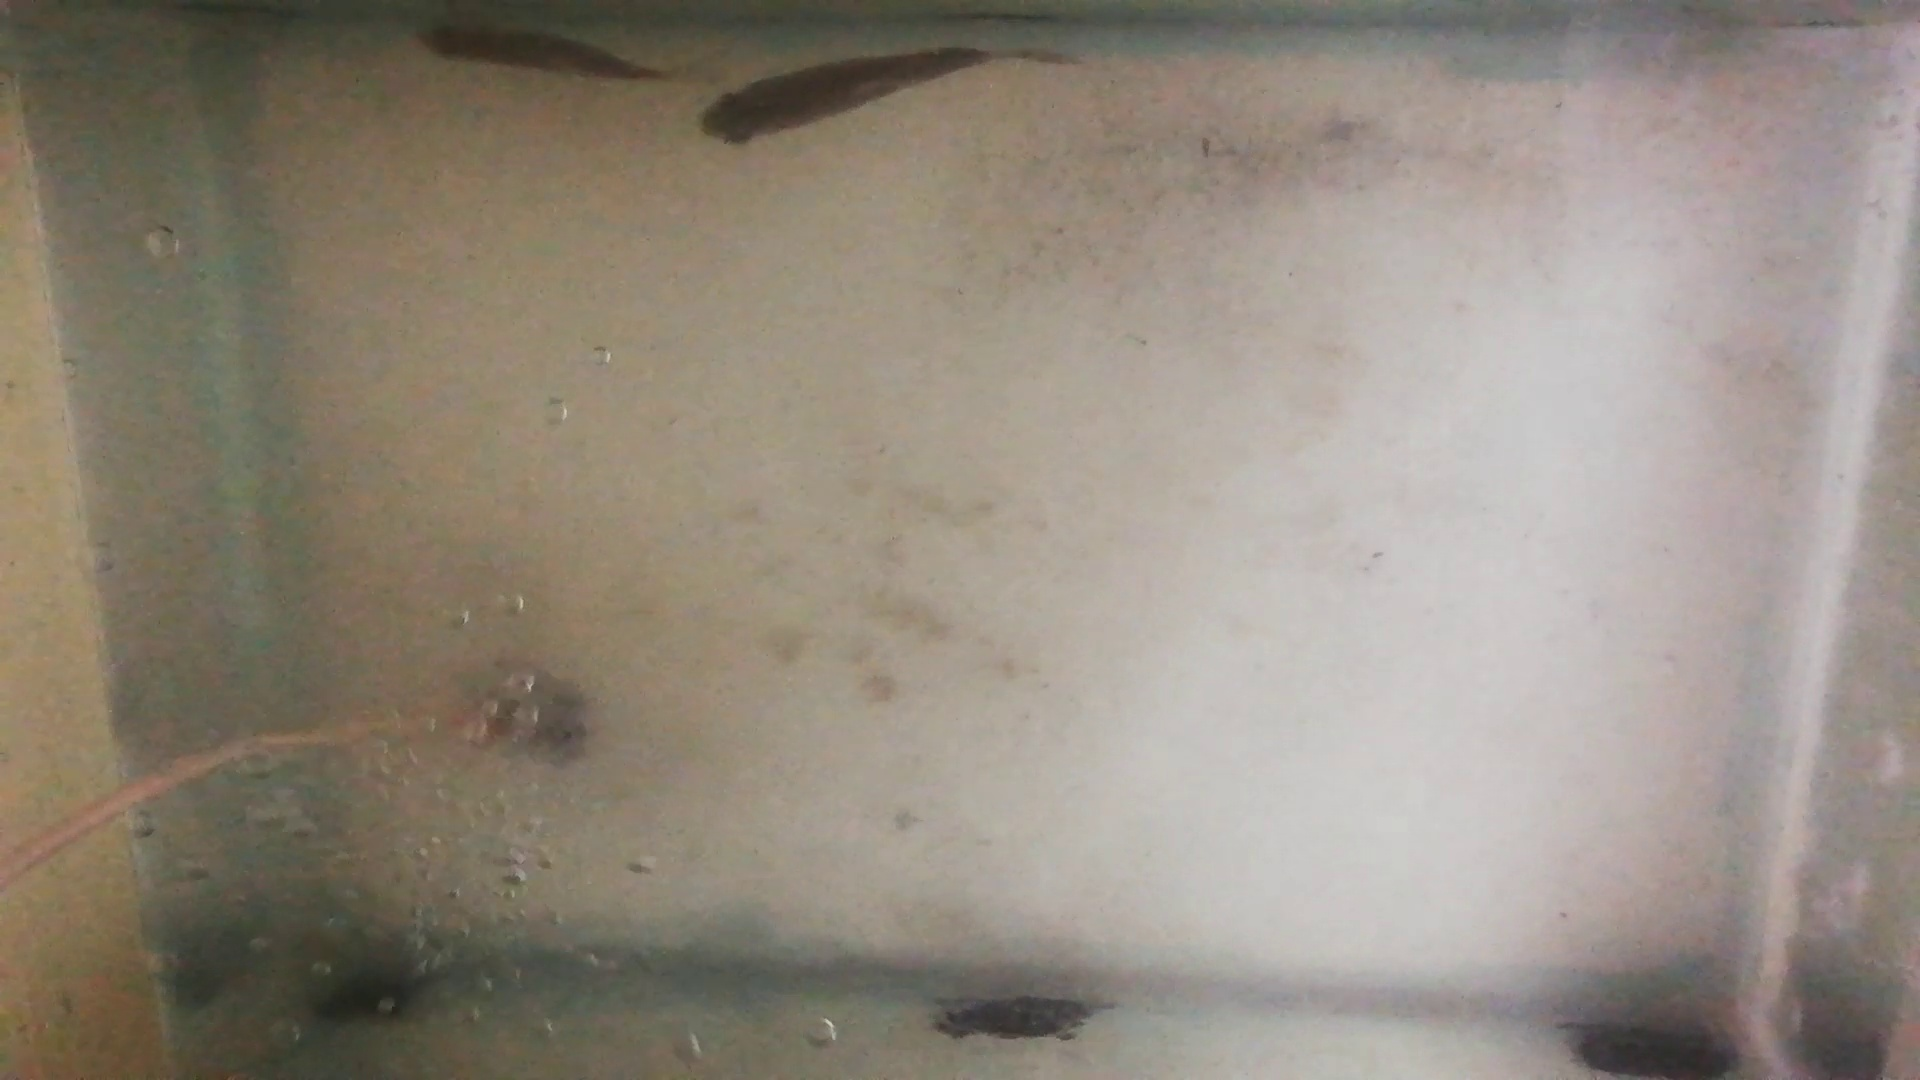fish: (698, 47, 998, 148), (415, 24, 658, 82)
